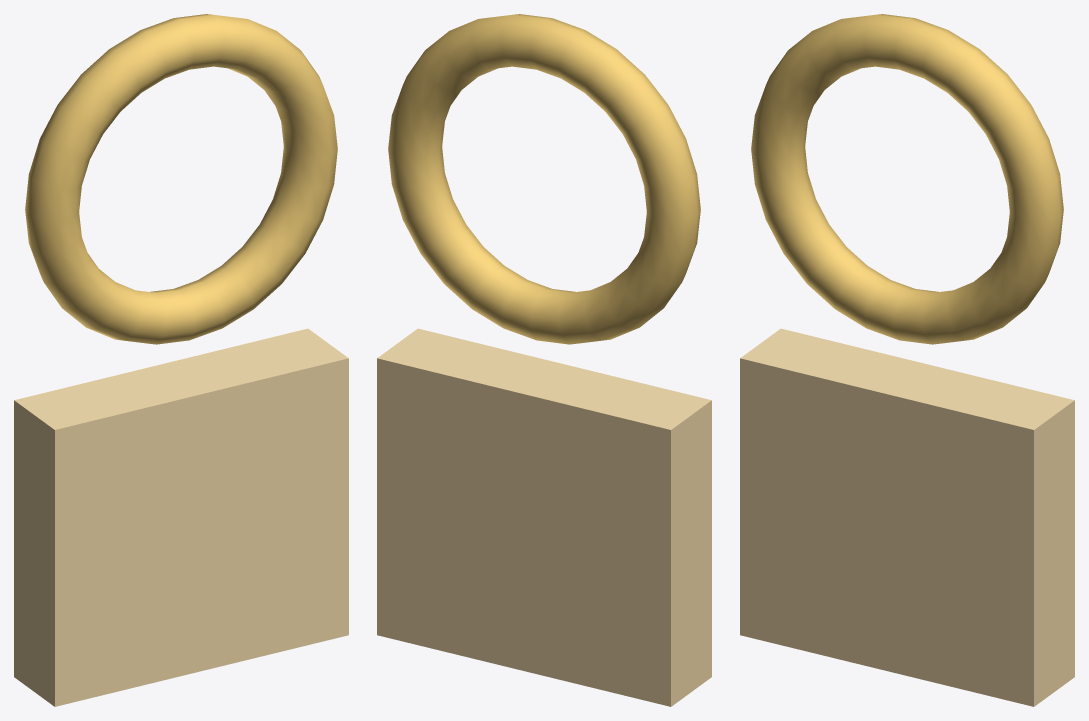
The model's file is VM-DAM-SH39867255.glb.
3 renders of one model, left to right at view 1: azimuth 30°, elevation 25°; view 2: azimuth 150°, elevation 25°; view 3: azimuth 330°, elevation 25°, orthographic.
Parts seen in each view (by area): view 1: Ganchos Llavero Estrella Metal; view 2: Ganchos Llavero Estrella Metal; view 3: Ganchos Llavero Estrella Metal.
Part boxes in pixels (x1,y1,x2,y2): Ganchos Llavero Estrella Metal: (14,14,348,706); Ganchos Llavero Estrella Metal: (377,14,711,706); Ganchos Llavero Estrella Metal: (740,14,1074,706).
Bounding box in the file's own units: 0.0546 × 0.1087 × 0.0126.
